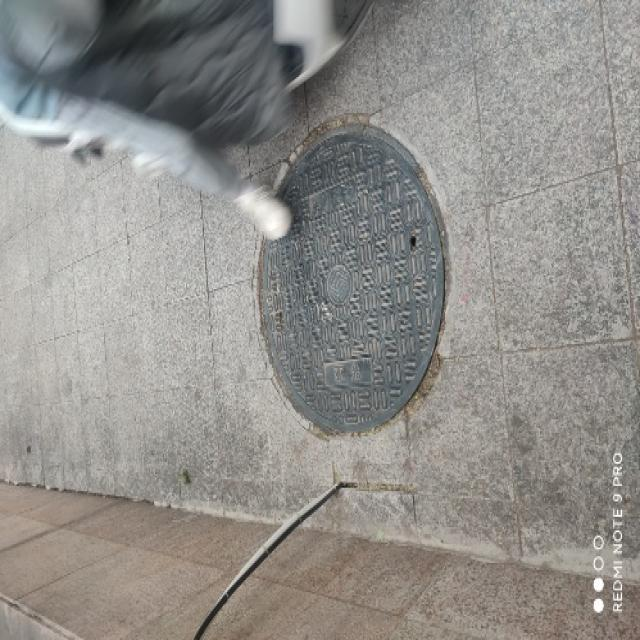Good: (238, 120, 458, 448)
